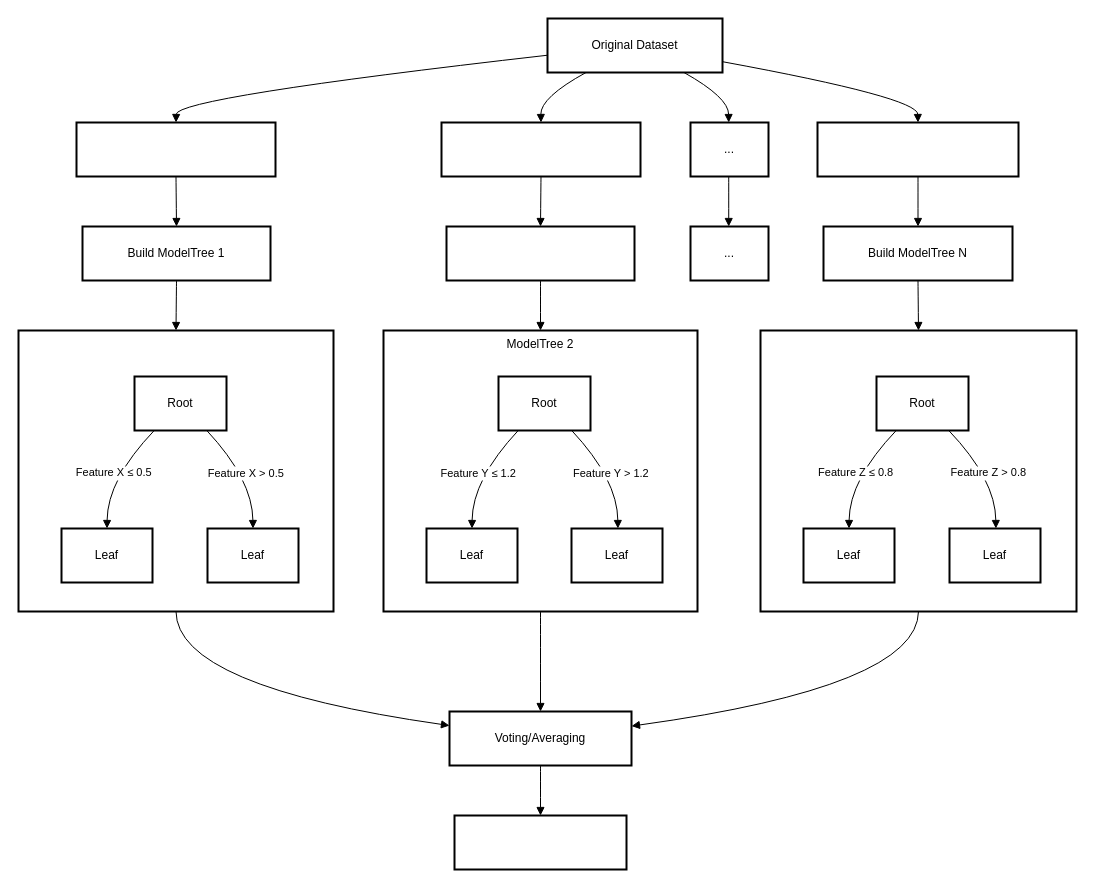
This 1094x887 diagram has some shape labels left out. Here are the shapes that lost their labels. From the top down, the box of each, then its label:
(75, 121, 276, 177): Bootstrap Sample 1
(440, 121, 641, 177): Bootstrap Sample 2
(816, 121, 1019, 177): Bootstrap Sample N
(445, 225, 635, 281): Build ModelTree 2
(17, 329, 334, 612): ModelTree 1
(759, 329, 1077, 612): ModelTree N
(453, 814, 627, 870): Final Prediction
